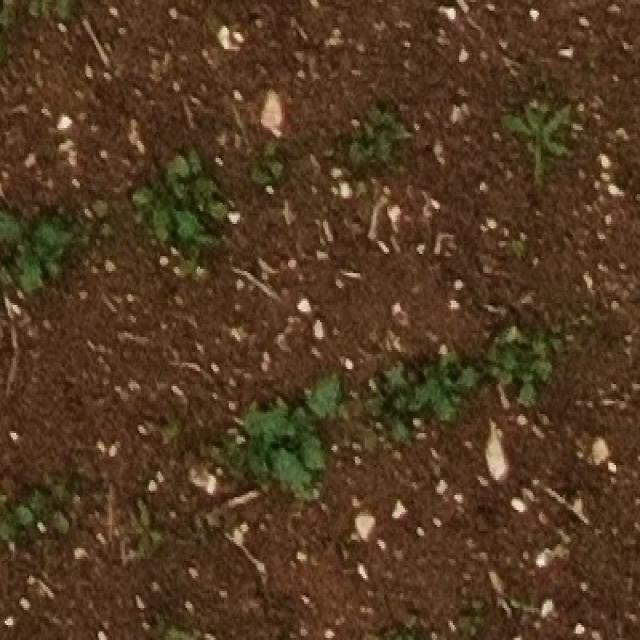cirse: (486, 100, 557, 200), (515, 102, 588, 194), (504, 99, 576, 192)
